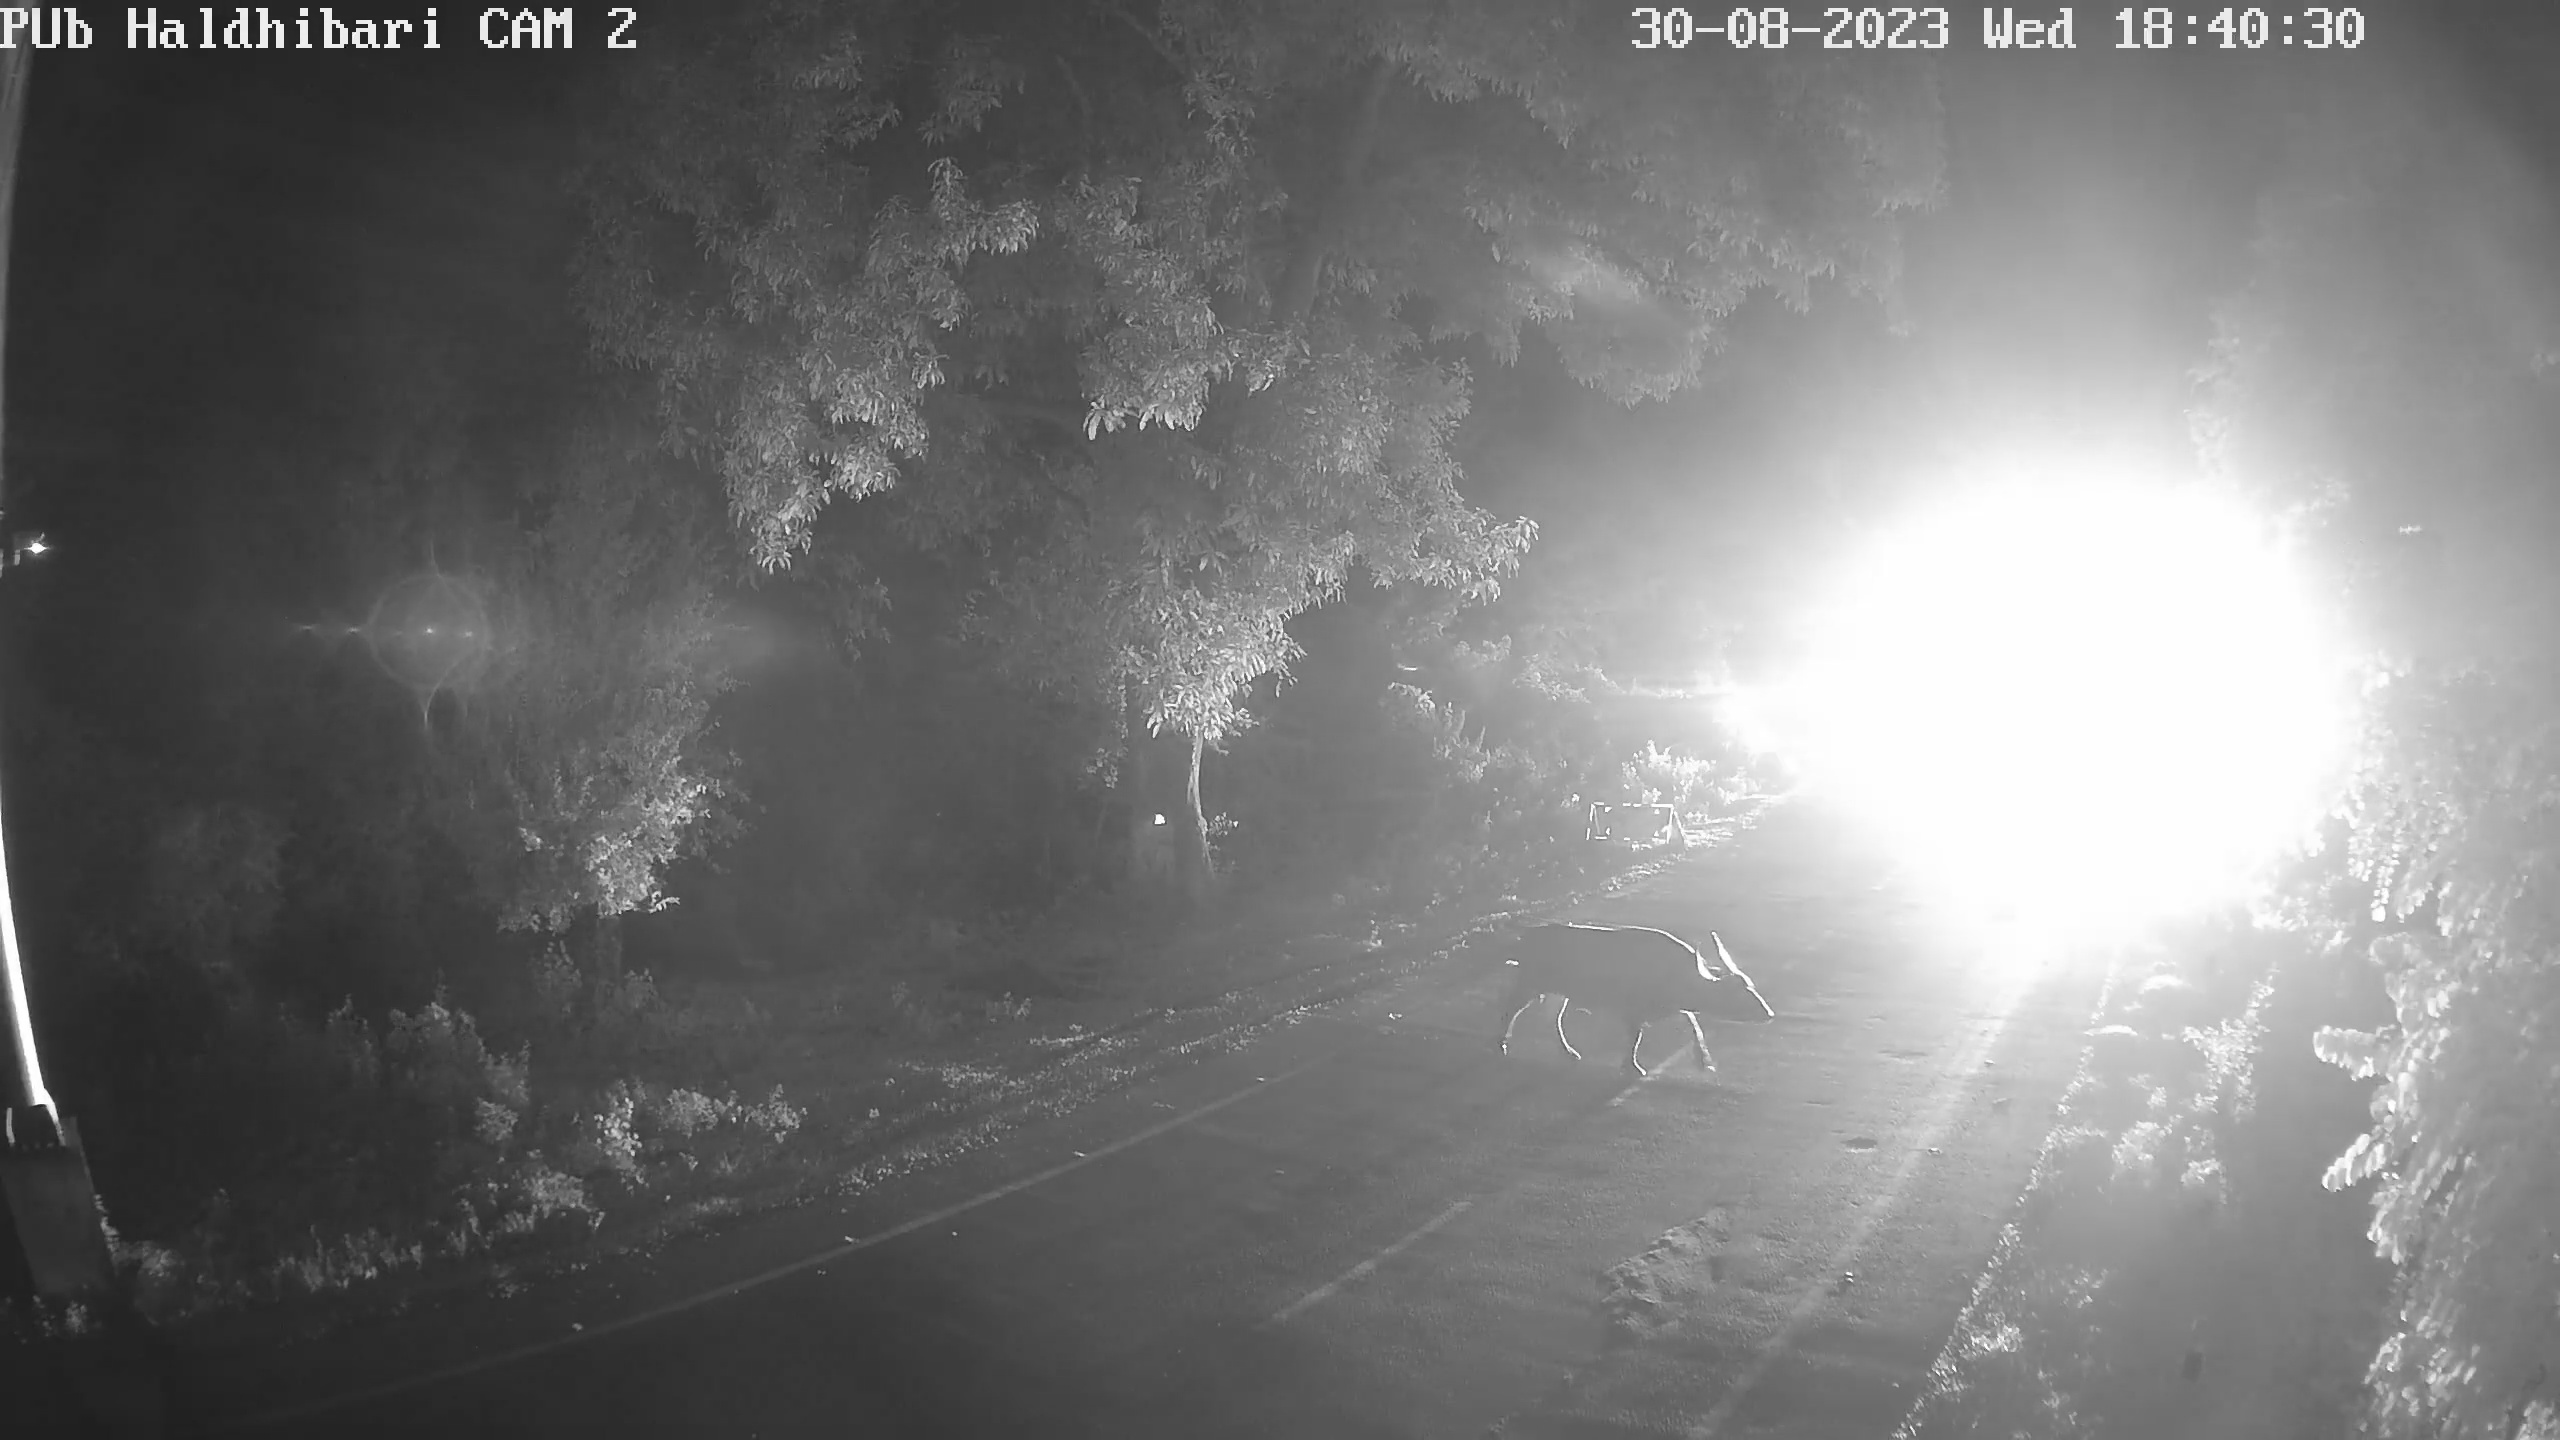buffaloes: (1452, 920, 1778, 1088)
